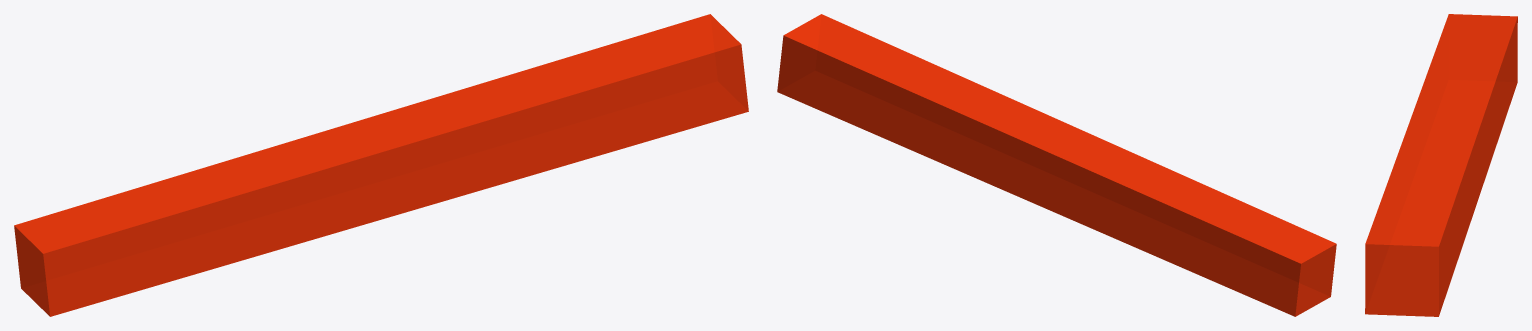
File: Event_421556567_EErechit_56.fbx
3 renders of one model, left to right at view 1: azimuth 30°, elevation 25°; view 2: azimuth 150°, elevation 25°; view 3: azimuth 270°, elevation 25°, orthographic. The views are drawn at different scales.
Visible parts, largest first — view 1: Model; view 2: Model; view 3: Model.
Boxes of the visible parts, left/top/right/bottom form: Model: left=14, top=14, right=748, bottom=316; Model: left=777, top=14, right=1336, bottom=316; Model: left=1365, top=14, right=1517, bottom=316.
Bounding box in the file's own units: 0.7801 × 0.1635 × 0.1595.
